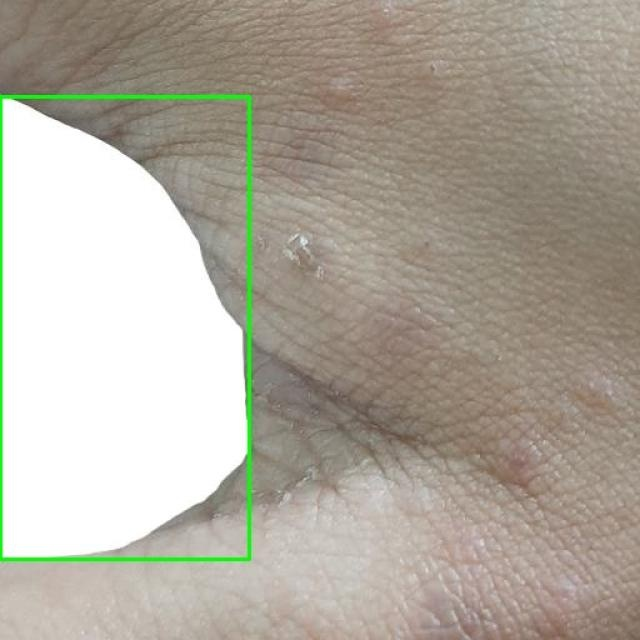Scabies: (0, 96, 249, 559)
